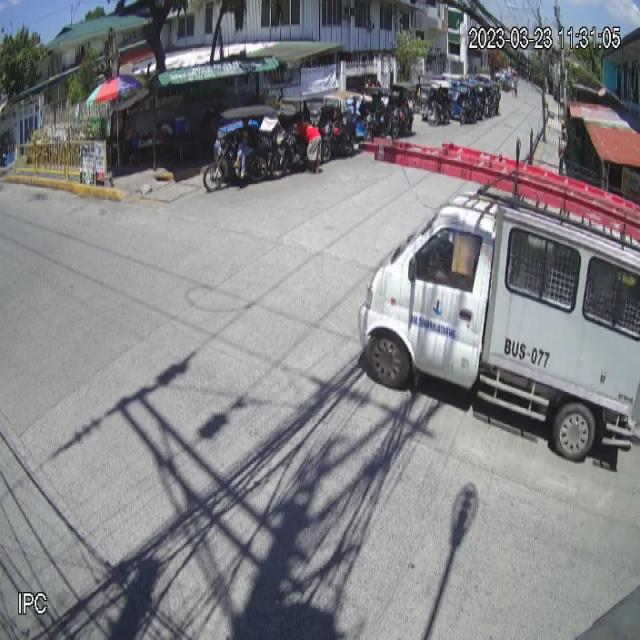Van: (358, 194, 640, 461)
